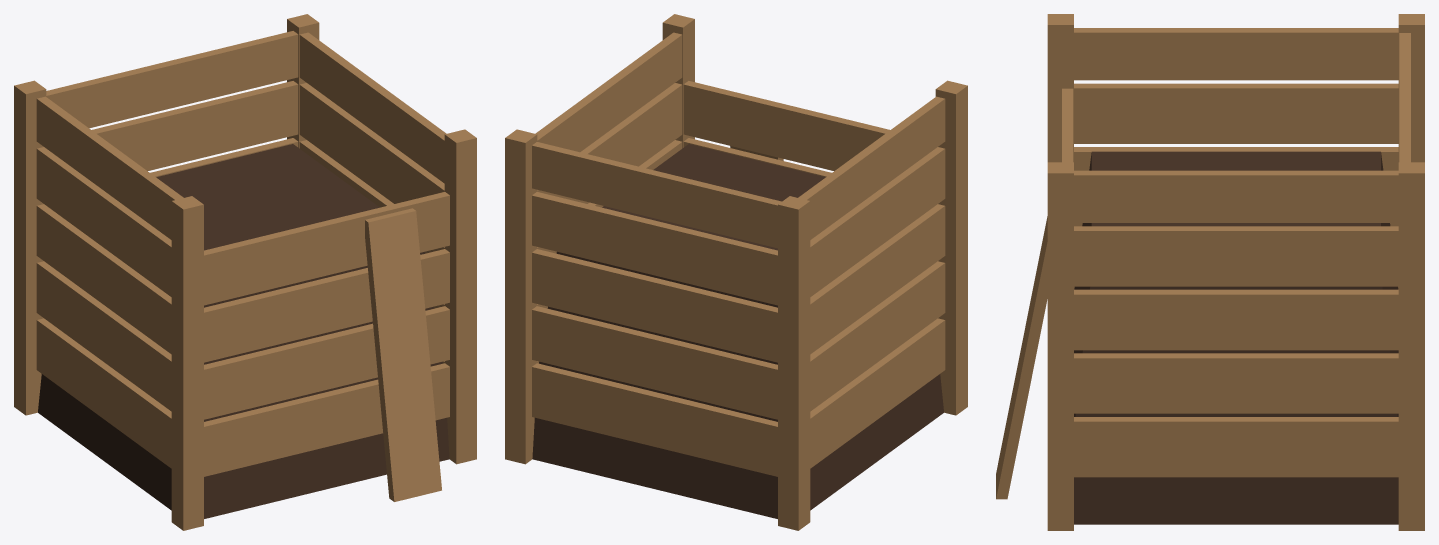
Rendered from FN_Bin_Compost.obj.
3 views of the same model, side by side, from view 1: azimuth 30°, elevation 25°; view 2: azimuth 150°, elevation 25°; view 3: azimuth 270°, elevation 25° (orthographic). The views are drawn at different scales.
Parts seen in each view (by area): view 1: FN_Bin_Compost; view 2: FN_Bin_Compost; view 3: FN_Bin_Compost.
Boxes of the visible parts, x1,y1,x2,y2 form: FN_Bin_Compost: (14,14,476,530); FN_Bin_Compost: (505,14,967,530); FN_Bin_Compost: (996,14,1424,530).
Bounding box in the file's own units: 0.86 × 0.9 × 0.978.
Materials: 1 (1 with a texture image).
